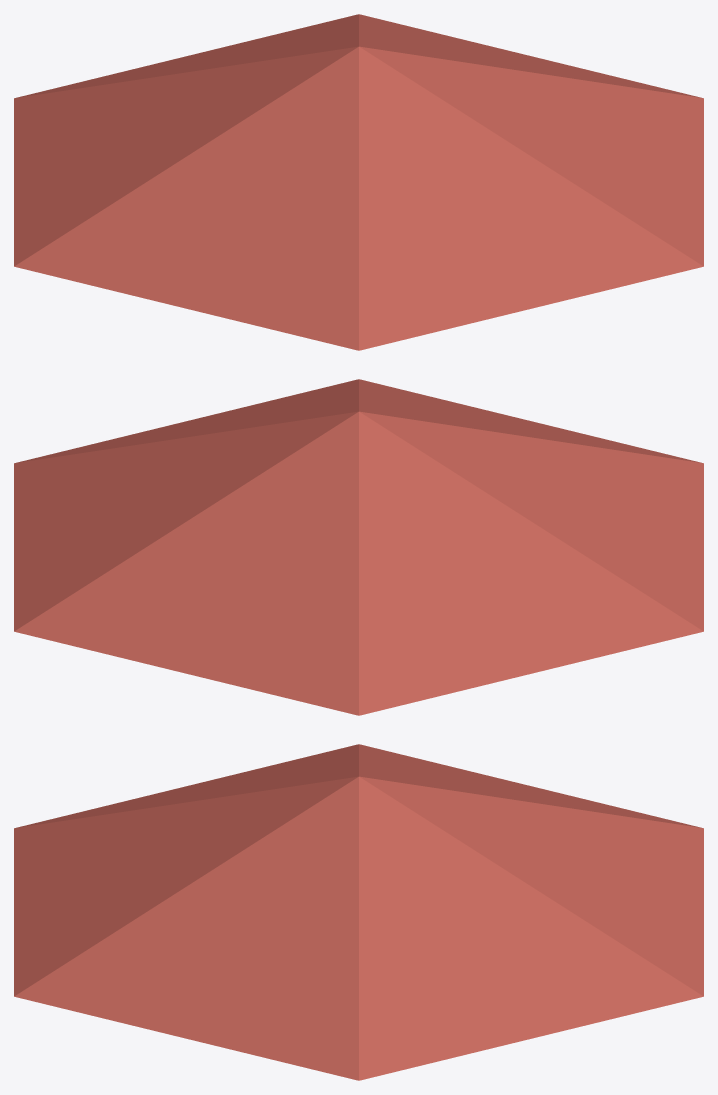
Rendered from enemy_drone.glb.
3 renders of one model, top to bottom at view 1: azimuth 30°, elevation 25°; view 2: azimuth 150°, elevation 25°; view 3: azimuth 270°, elevation 25°, orthographic.
Parts seen in each view (by area): view 1: Enemy_Drone; view 2: Enemy_Drone; view 3: Enemy_Drone.
Part boxes in pixels (box(x1,y1,x2,y2)): Enemy_Drone: box(14, 14, 703, 350); Enemy_Drone: box(14, 379, 703, 715); Enemy_Drone: box(14, 744, 703, 1080).
Bounding box in the file's own units: 1.7 × 0.64 × 1.47.
